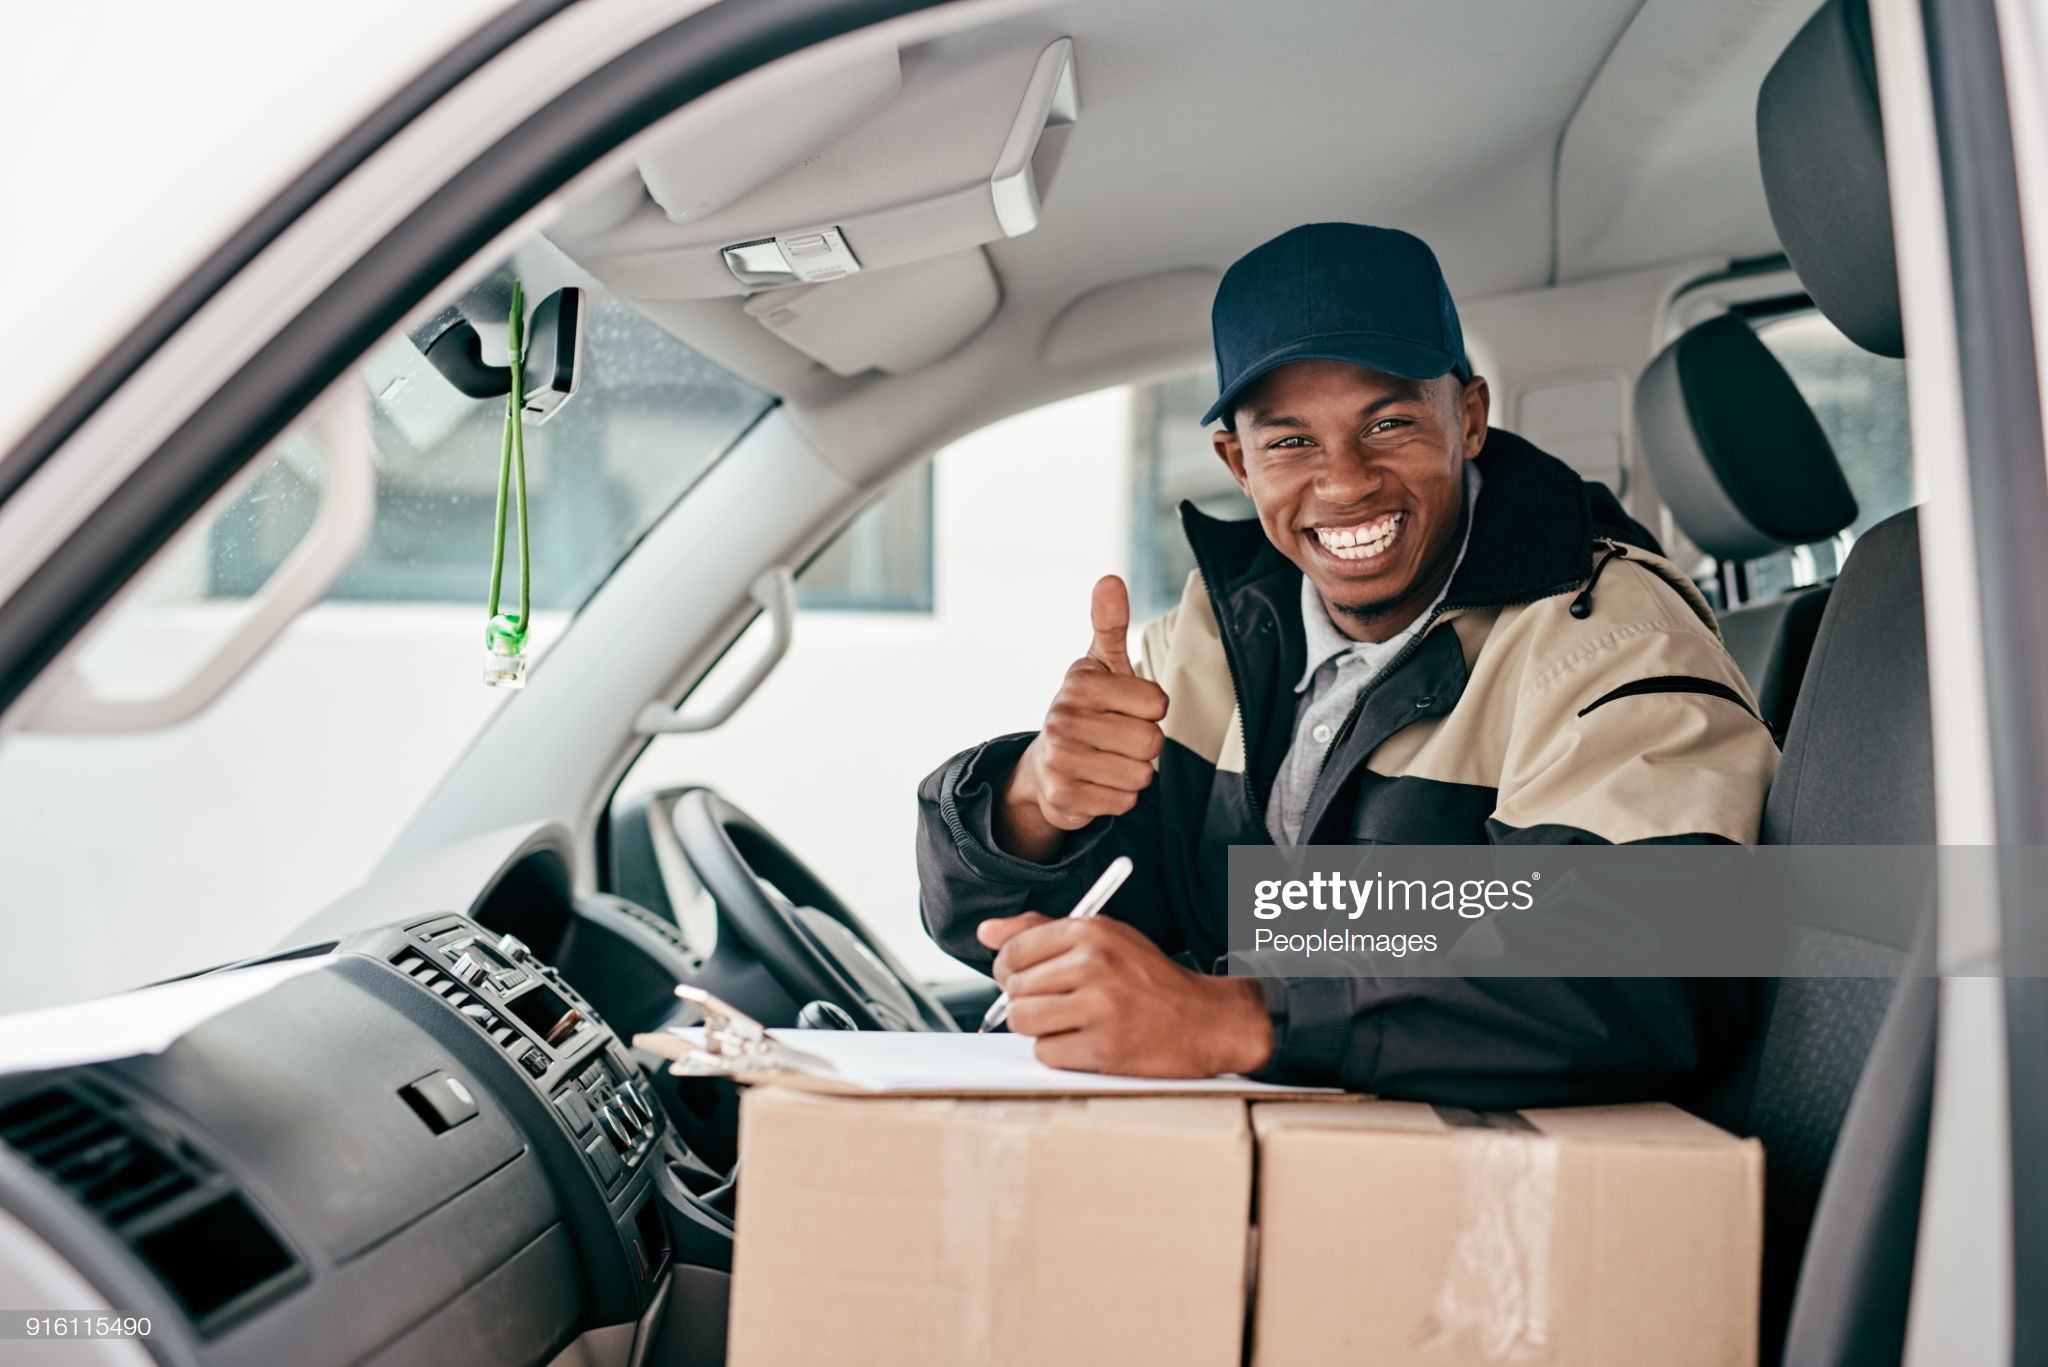thumbsup: (1042, 574, 1170, 816)
